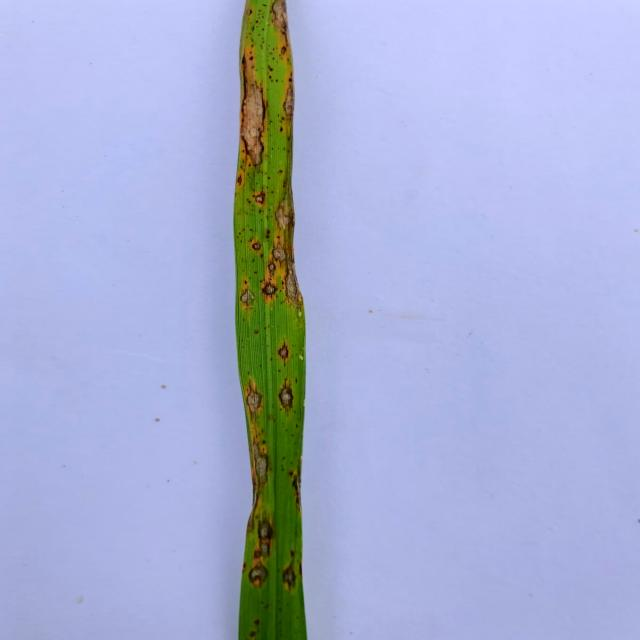leaf blast: (242, 45, 270, 169), (243, 379, 266, 418), (283, 268, 303, 308), (275, 196, 294, 230), (270, 0, 288, 35), (278, 377, 296, 412), (252, 448, 269, 485), (249, 562, 270, 588), (282, 84, 294, 121), (256, 516, 274, 540), (271, 241, 289, 264), (253, 536, 271, 559), (239, 286, 256, 310), (259, 280, 280, 299), (282, 559, 296, 587), (276, 338, 290, 365), (254, 191, 269, 206), (251, 241, 262, 252), (266, 262, 278, 272)
